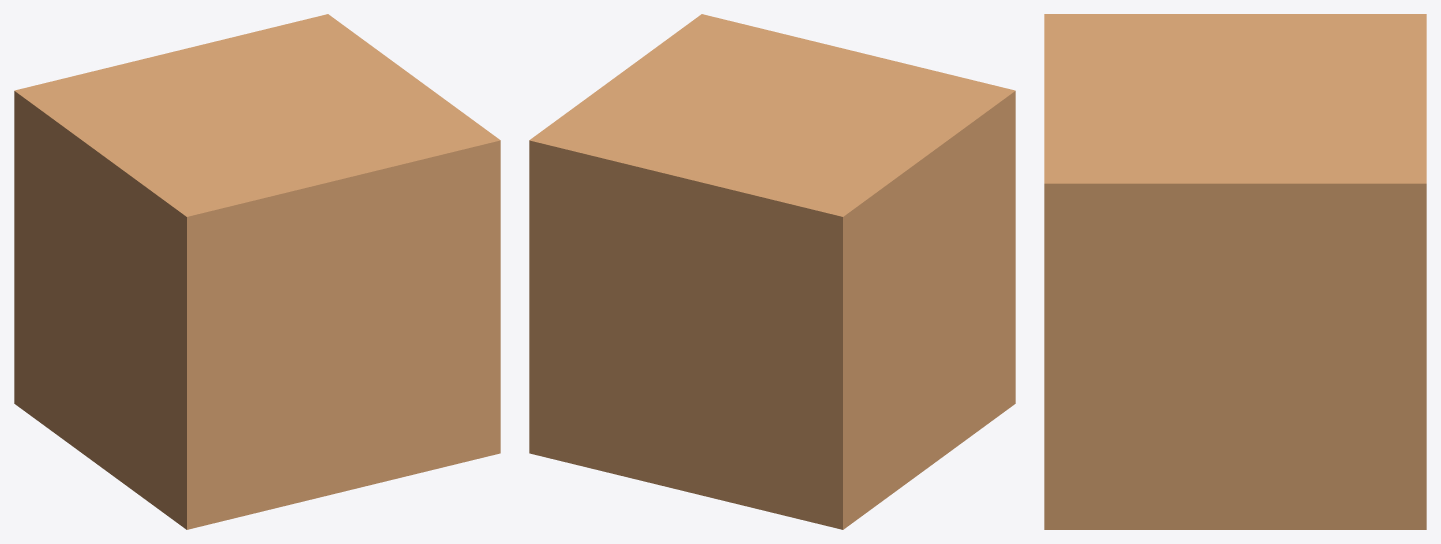
The model's file is Girl warmup.fbx.
3 views of the same model, side by side, from view 1: azimuth 30°, elevation 25°; view 2: azimuth 150°, elevation 25°; view 3: azimuth 270°, elevation 25° (orthographic). The views are drawn at different scales.
Visible parts, largest first — view 1: Legs; view 2: Legs; view 3: Legs.
Boxes of the visible parts, bbox=[...] form: Legs: bbox=[14, 14, 500, 529]; Legs: bbox=[529, 14, 1015, 529]; Legs: bbox=[1044, 14, 1426, 529].
Size of the model in its own units: 1050 by 1000 by 1000.
